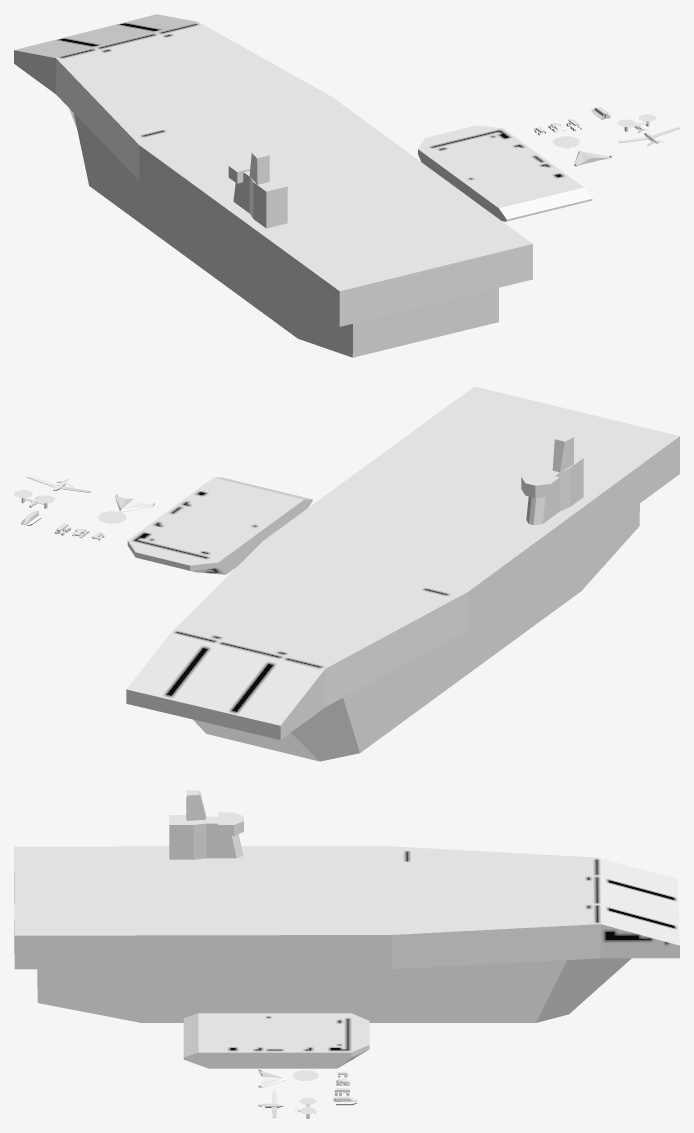
The model's file is vehicle_wireframe.fbx.
3 views of the same model, one above another, from view 1: azimuth 30°, elevation 25°; view 2: azimuth 150°, elevation 25°; view 3: azimuth 270°, elevation 25° (orthographic). The views are drawn at different scales.
Visible parts, largest first — view 1: carrier_map_carrier, carrier_map_barge; view 2: carrier_map_carrier, carrier_map_barge; view 3: carrier_map_carrier, carrier_map_barge.
Part boxes in pixels (bbox=[...]): carrier_map_carrier: bbox=[14, 14, 532, 357]; carrier_map_barge: bbox=[418, 125, 592, 221]; carrier_map_carrier: bbox=[126, 386, 679, 761]; carrier_map_barge: bbox=[127, 477, 312, 574]; carrier_map_carrier: bbox=[14, 790, 679, 1022]; carrier_map_barge: bbox=[183, 1013, 369, 1068].
Size of the model in its own units: 16783 by 5612 by 21442.
2 materials, 2 textured.
